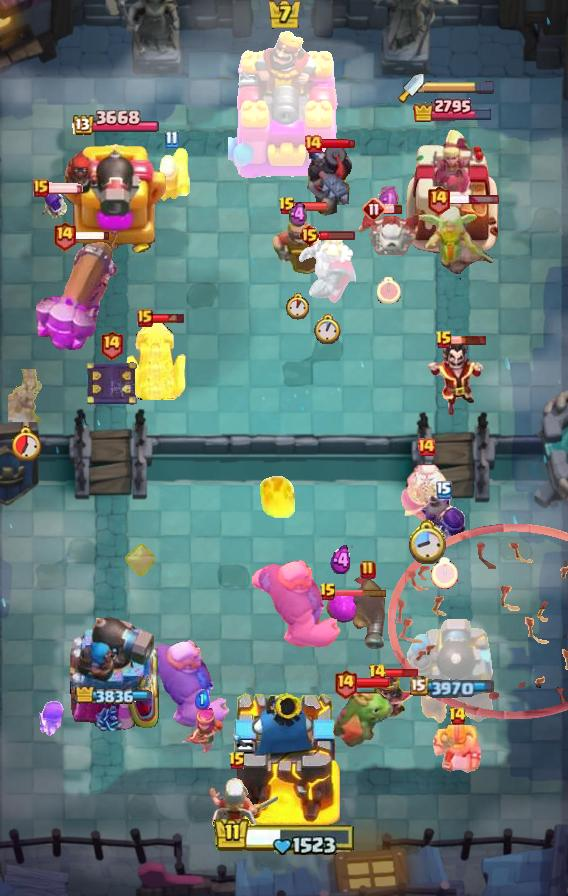balloon: (249, 558, 343, 650), (138, 638, 232, 730)
bar: (403, 124, 503, 256)
bomb-tower: (349, 573, 387, 651)
bomber-evolution: (370, 674, 416, 726)
cannon: (179, 707, 225, 755)
clock: (213, 814, 355, 855)
earthquake: (273, 204, 323, 276)
electro-spirit: (331, 545, 354, 575), (379, 185, 402, 214), (289, 201, 307, 229), (195, 689, 209, 709)
electro-wizard: (327, 682, 393, 750)
elixir: (406, 518, 446, 564), (12, 427, 42, 462), (430, 557, 457, 589), (315, 315, 342, 346), (285, 293, 311, 320), (377, 277, 401, 304)
elixir-collector: (397, 456, 455, 522)
emote: (448, 194, 500, 205), (334, 587, 388, 596), (46, 182, 84, 194), (452, 334, 489, 346), (320, 138, 356, 150), (355, 677, 391, 689), (151, 312, 186, 324), (385, 667, 420, 679), (74, 231, 111, 242), (319, 231, 356, 242), (293, 201, 329, 212), (384, 204, 404, 216)
fisherman: (8, 369, 46, 422)
furnace: (32, 240, 122, 354)
goblin: (36, 699, 67, 739), (37, 187, 69, 225)
goblin-ball: (421, 492, 467, 550)
goblin-brawler: (126, 316, 188, 400)
goblin-giant: (430, 722, 484, 774)
ice-spirit-evolution-symbol: (84, 358, 138, 408)
inferno-dragon: (296, 145, 358, 221)
king-tower: (228, 29, 340, 181), (226, 688, 342, 826)
king-tower-bar: (424, 80, 496, 94)
lumberjack: (425, 342, 487, 418)
miner: (325, 593, 357, 623)
mini-pekka: (356, 211, 422, 257)
mortar-evolution: (295, 233, 359, 305)
poison: (411, 197, 499, 281), (193, 773, 281, 847)
selected: (69, 110, 158, 138), (412, 96, 494, 122), (411, 676, 498, 698), (75, 688, 153, 705)
skeleton-barrel: (388, 522, 568, 720)
skeleton-king-skill: (123, 542, 155, 578)
text: (426, 184, 451, 215), (51, 221, 76, 252), (99, 329, 124, 360), (334, 669, 359, 700), (362, 197, 386, 221), (299, 223, 322, 247), (303, 134, 323, 154), (416, 437, 436, 457), (368, 663, 388, 683), (448, 706, 468, 726), (278, 196, 296, 216), (435, 330, 453, 350), (319, 582, 337, 602), (228, 751, 246, 771), (360, 560, 376, 580), (33, 179, 49, 197), (137, 309, 153, 327), (436, 481, 452, 499), (165, 131, 179, 149)
tombstone: (150, 145, 192, 203)
tower-bar: (60, 138, 168, 256), (406, 611, 500, 731), (68, 611, 160, 731)
valkyrie: (257, 472, 297, 520)
